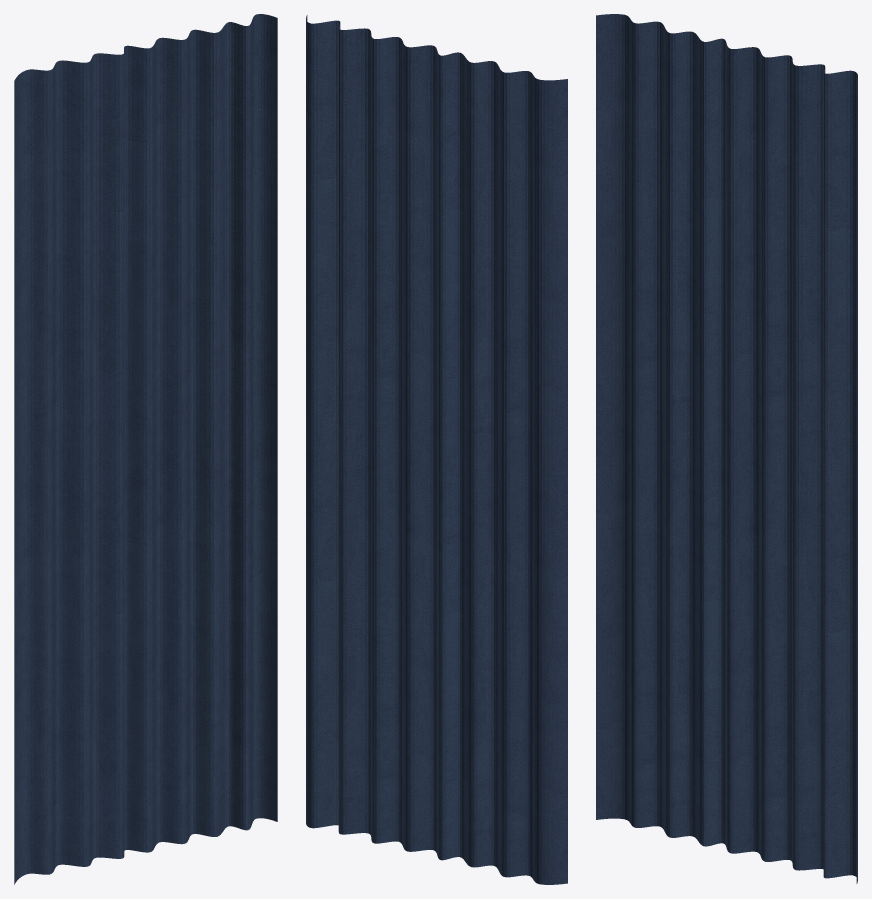
Rendered from Curtains.fbx.
3 renders of one model, left to right at view 1: azimuth 30°, elevation 25°; view 2: azimuth 150°, elevation 25°; view 3: azimuth 330°, elevation 25°, orthographic.
Parts seen in each view (by area): view 1: curtains; view 2: curtains; view 3: curtains.
Boxes of the visible parts, left/top/right/bottom form: curtains: left=14, top=14, right=277, bottom=884; curtains: left=306, top=15, right=567, bottom=884; curtains: left=596, top=14, right=857, bottom=883.
Bounding box in the file's own units: 92.2 × 271 × 7.08.
1 material, 1 textured.
